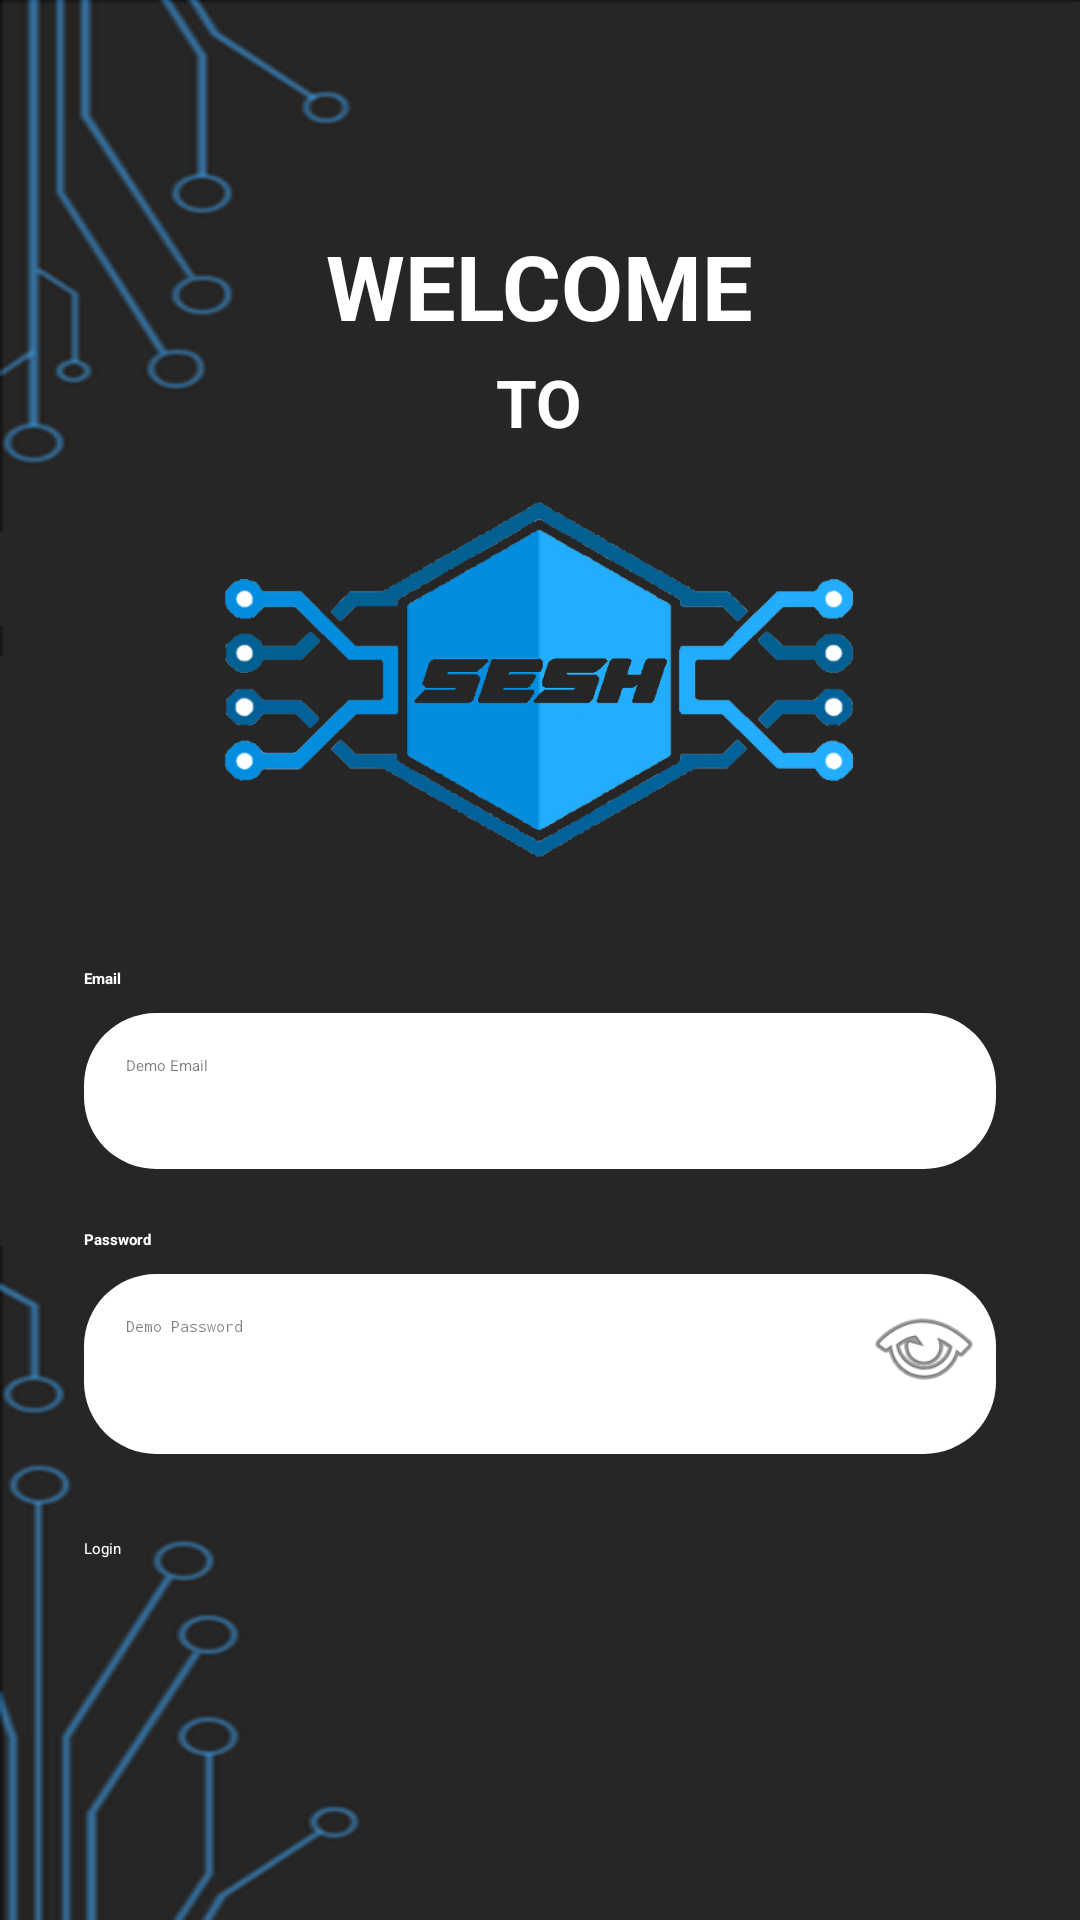

Named icons in this screenshot (1080×1920) and their centers, (x,y):
Show Password: (924,1349)
